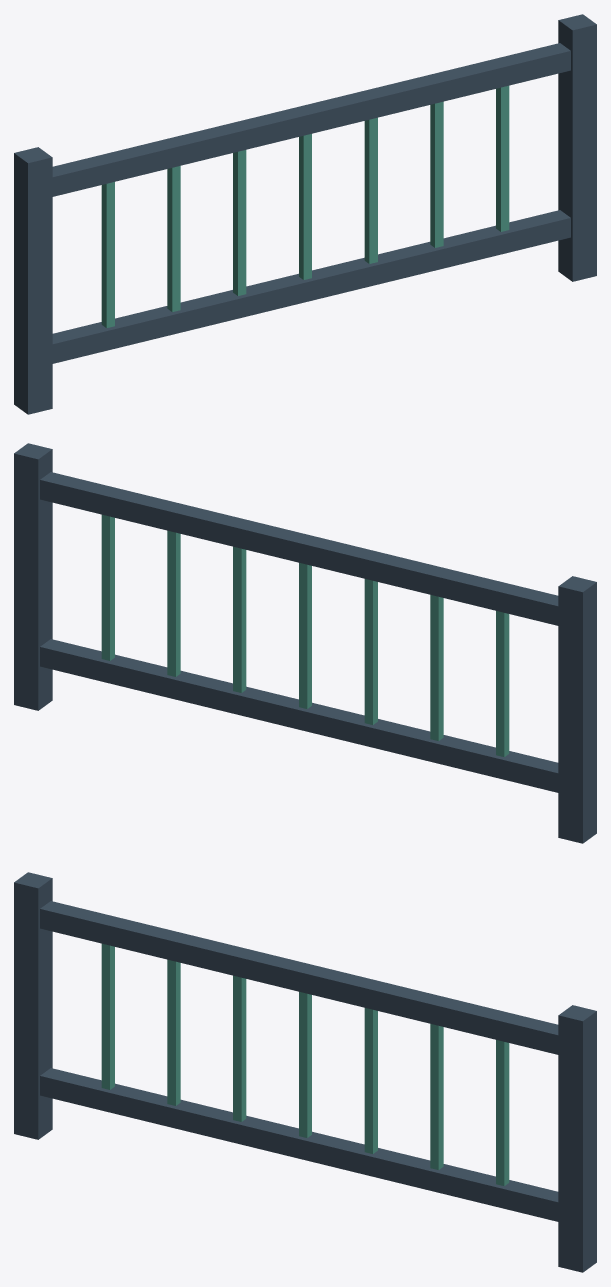
The model's file is fence-metal.glb.
The picture shows the model from 3 angles, top to bottom: view 1: azimuth 30°, elevation 25°; view 2: azimuth 150°, elevation 25°; view 3: azimuth 330°, elevation 25°; orthographic projection.
Visible parts, largest first — view 1: asset_root; view 2: asset_root; view 3: asset_root.
Boxes of the visible parts, x1,y1,x2,y2 form: asset_root: (14,14,596,414); asset_root: (14,443,596,843); asset_root: (14,872,596,1272).
Bounding box in the file's own units: 3.03 × 1.28 × 0.13.
